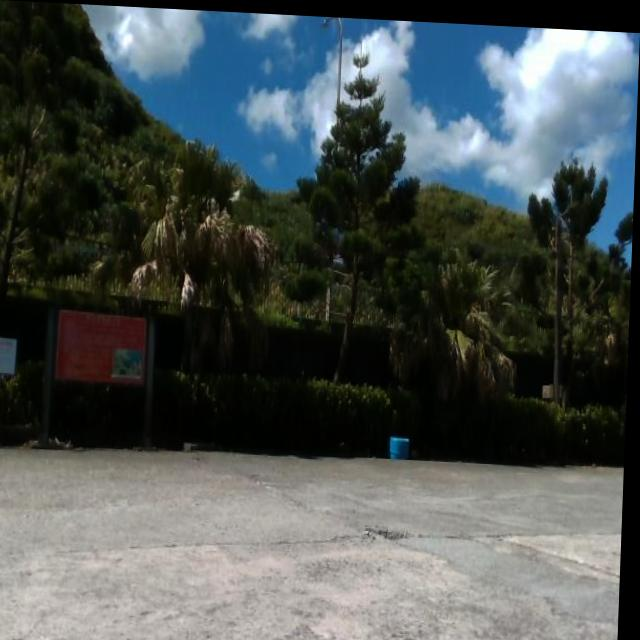pollute: (391, 430, 414, 458)
